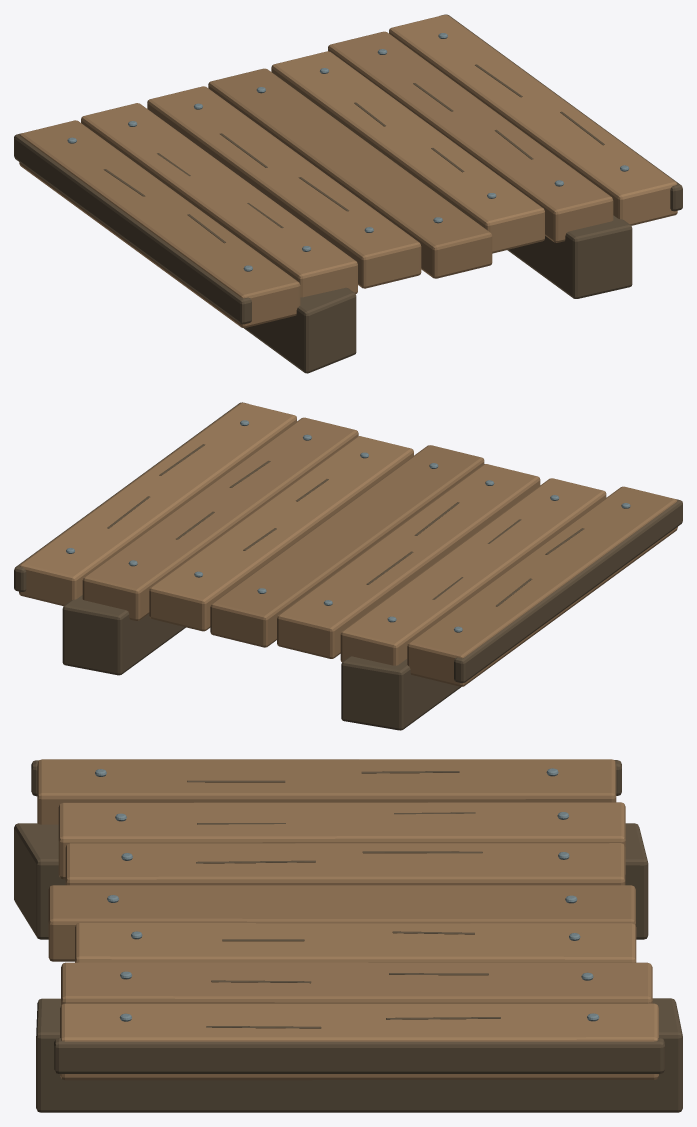
File: deck-intact-3.glb
The picture shows the model from 3 angles, top to bottom: view 1: azimuth 30°, elevation 25°; view 2: azimuth 150°, elevation 25°; view 3: azimuth 270°, elevation 25°; orthographic projection. The views are drawn at different scales.
Visible parts, largest first — view 1: GEO-deck-intact-378.006, GEO-deck-intact-972.006, GEO-deck-intact-1148.006; view 2: GEO-deck-intact-378.006, GEO-deck-intact-972.006, GEO-deck-intact-1148.006; view 3: GEO-deck-intact-378.006, GEO-deck-intact-972.006, GEO-deck-intact-1148.006.
Part boxes in pixels (left/top/right/bottom): GEO-deck-intact-378.006: left=19, top=15, right=677, bottom=327; GEO-deck-intact-972.006: left=14, top=14, right=682, bottom=373; GEO-deck-intact-1148.006: left=67, top=33, right=629, bottom=271; GEO-deck-intact-378.006: left=19, top=402, right=677, bottom=686; GEO-deck-intact-972.006: left=14, top=402, right=682, bottom=730; GEO-deck-intact-1148.006: left=66, top=420, right=630, bottom=632; GEO-deck-intact-378.006: left=37, top=759, right=658, bottom=1080; GEO-deck-intact-972.006: left=14, top=760, right=682, bottom=1112; GEO-deck-intact-1148.006: left=95, top=768, right=599, bottom=1021.
Size of the model in its own units: 2.28 by 0.4393 by 2.27.
